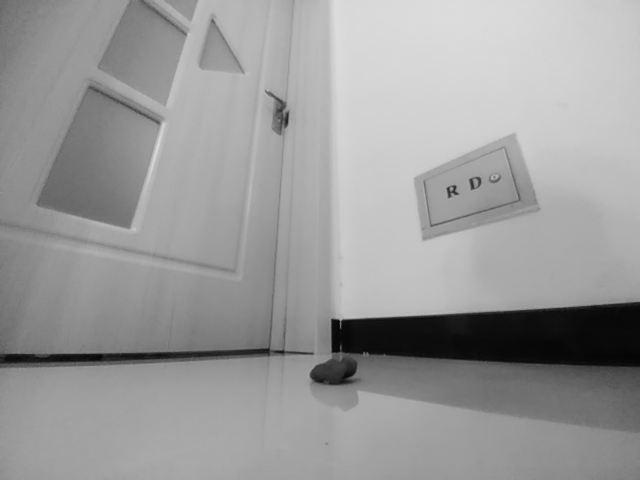pet feces: (310, 357, 358, 385)
